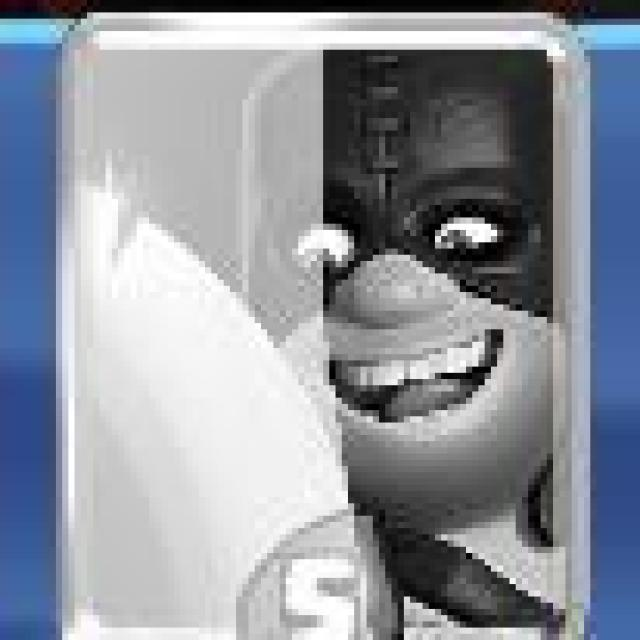Executioner: (53, 10, 591, 640)
